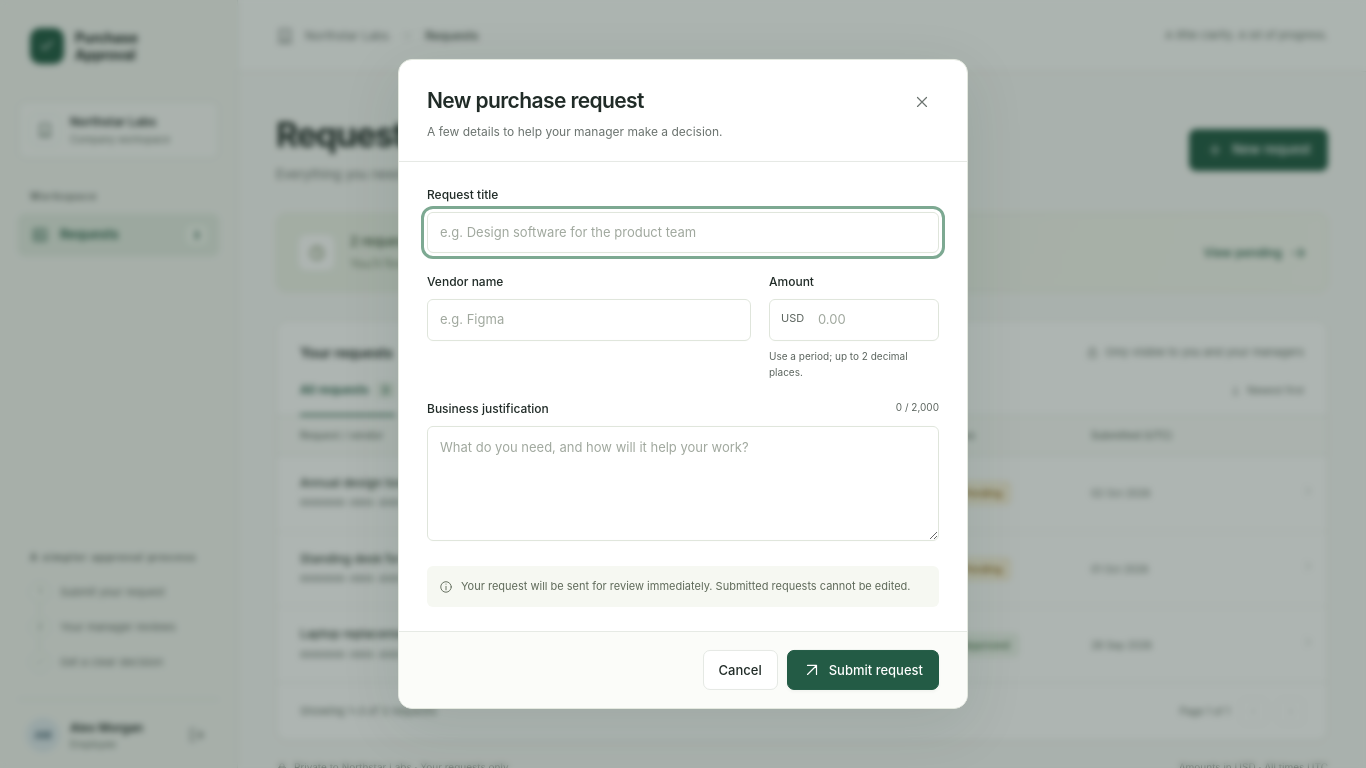
Test case: validation › shows all four required errors inline, links them, and focuses the first field
Expected: the heading "New purchase request" is shown, [427,88,644,113]
Click the button "Submit request": (863, 670) [787,650,939,690]
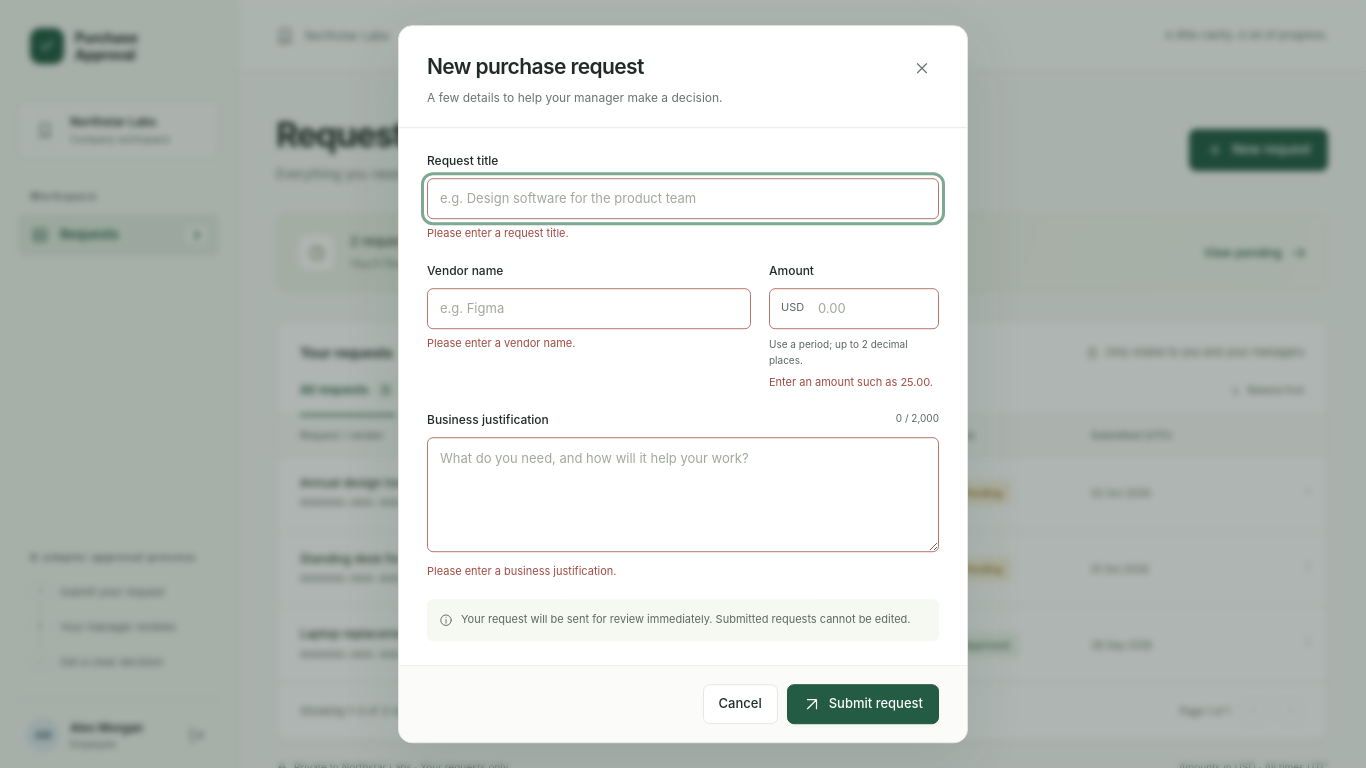
Now the text "Please enter a request title." is shown, box [427,226,569,240]
Now the text "Please enter a vendor name." is shown, box [427,336,575,350]
Now the text "Enter an amount such as 25.00." is shown, box [769,374,939,391]
